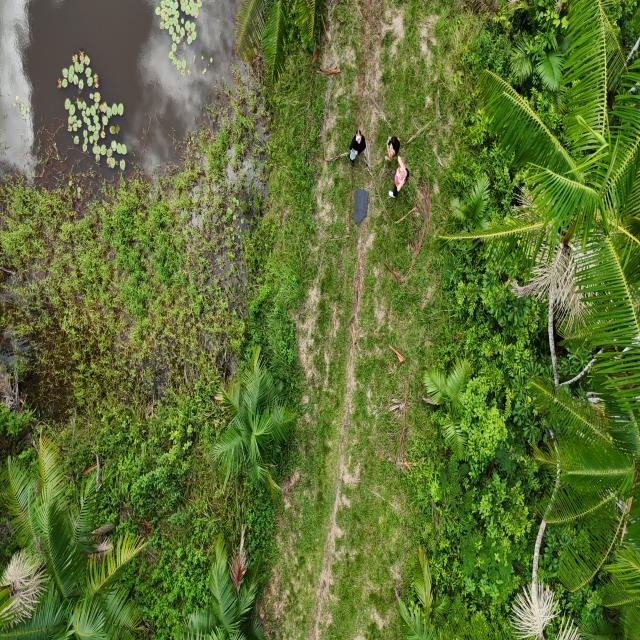vegetation: (402, 1, 639, 638)
